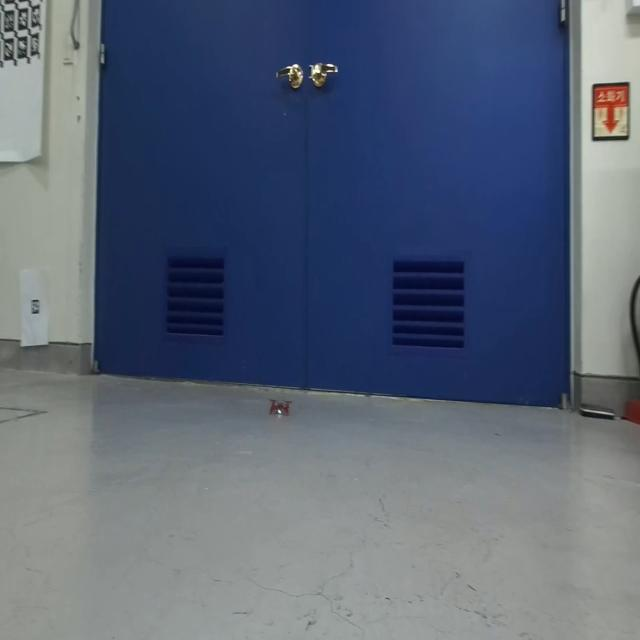crazyflie: (268, 391, 296, 422)
